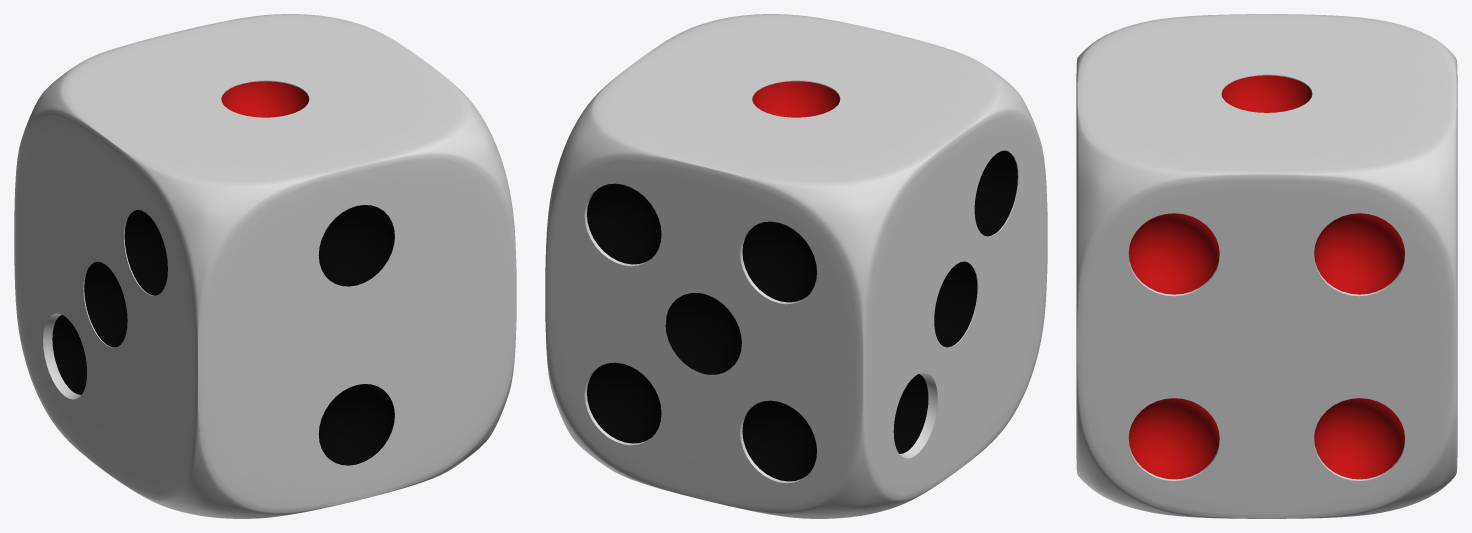
File: nrdd.glb
3 views of the same model, side by side, from view 1: azimuth 30°, elevation 25°; view 2: azimuth 150°, elevation 25°; view 3: azimuth 270°, elevation 25° (orthographic). The views are drawn at different scales.
Parts seen in each view (by area): view 1: Cube; view 2: Cube; view 3: Cube.
Part boxes in pixels (x1,y1,x2,y2): Cube: (14,14,516,518); Cube: (545,14,1047,518); Cube: (1076,14,1457,518).
Bounding box in the file's own units: 2 × 2 × 2.
